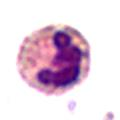monocyte: (16, 22, 93, 97)
